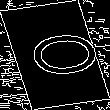O_E: (10, 29, 100, 81)
